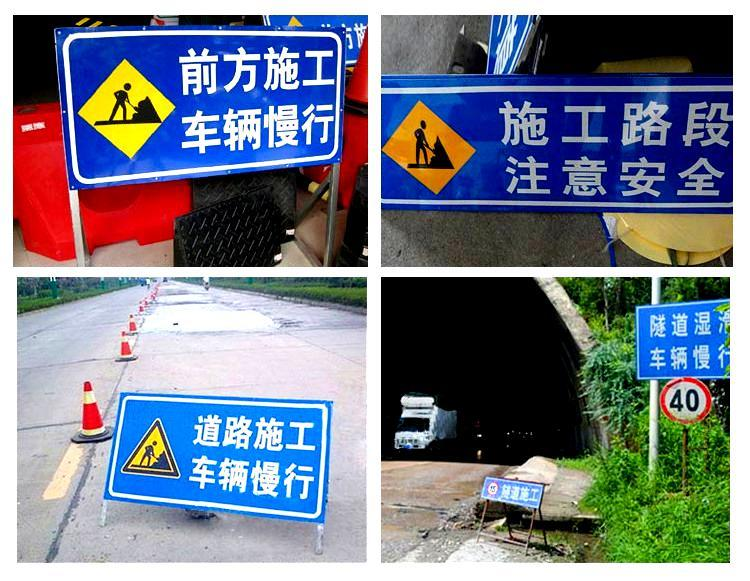sign: (380, 82, 730, 213), (59, 31, 333, 163), (109, 396, 330, 508), (477, 477, 549, 504)
